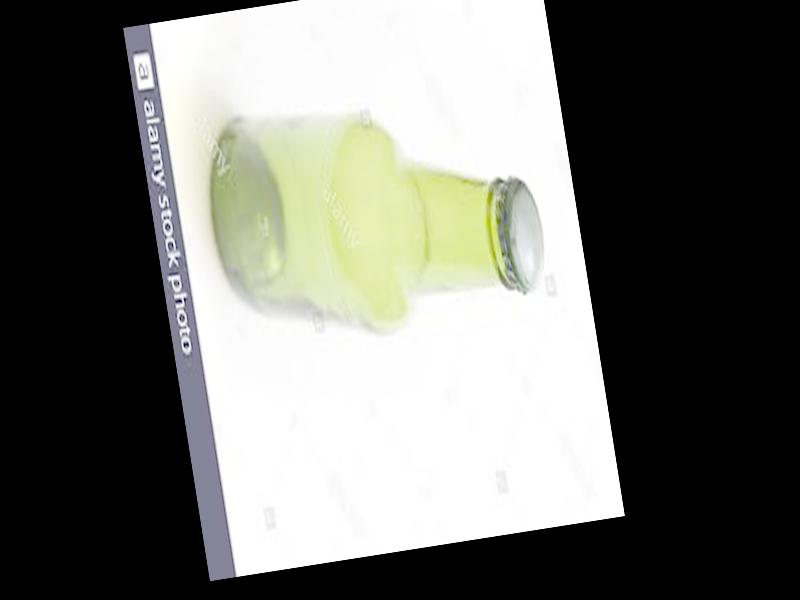Beer: (197, 75, 551, 341)
